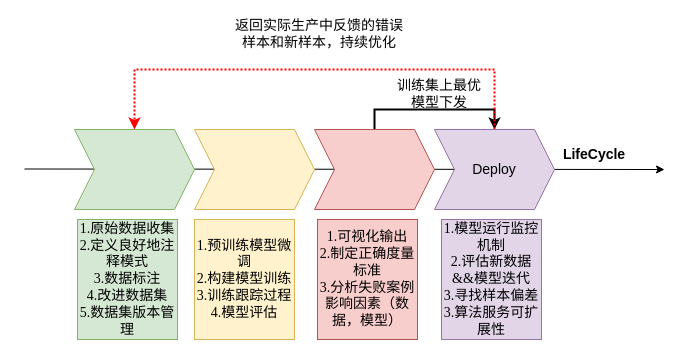
The diagram is 690 pixels wide and 357 high, and some of its shapes have lost their labels. The centre of each missing label's shape, as x and y in pixels:
"Collect Data" goes at (134,169).
"Create Model" goes at (254,169).
"Model Evaluation" goes at (374,169).
